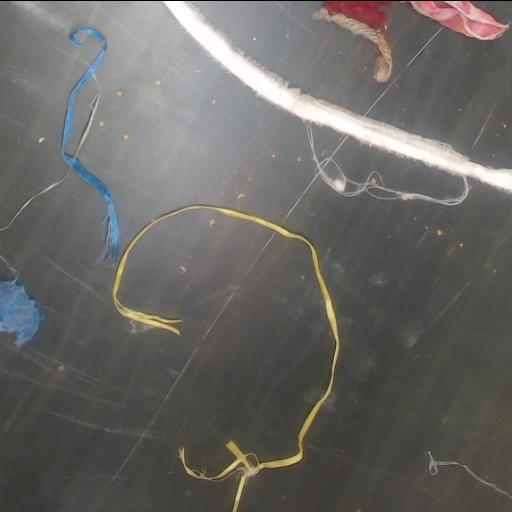cloth: (315, 1, 508, 80)
thread: (162, 1, 511, 191), (112, 204, 340, 473), (62, 26, 120, 259), (179, 449, 249, 479), (76, 95, 98, 151)
